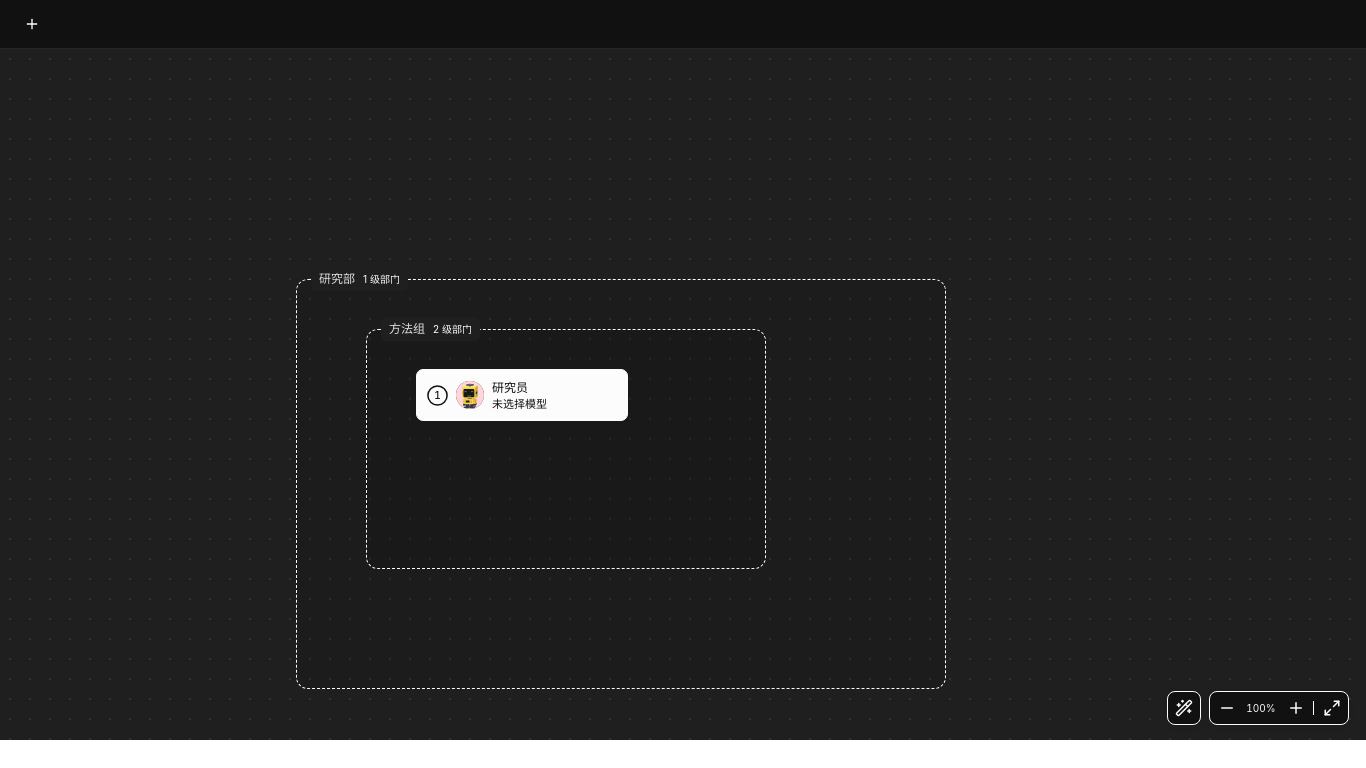
Test case: organization template personnel configuration › assigns department administration to the contained department without duplicating membership details
The width and height of the screenshot is (1366, 768).
Double-click the element named "节点 研究员" at (522, 395), box [416,369,628,421]
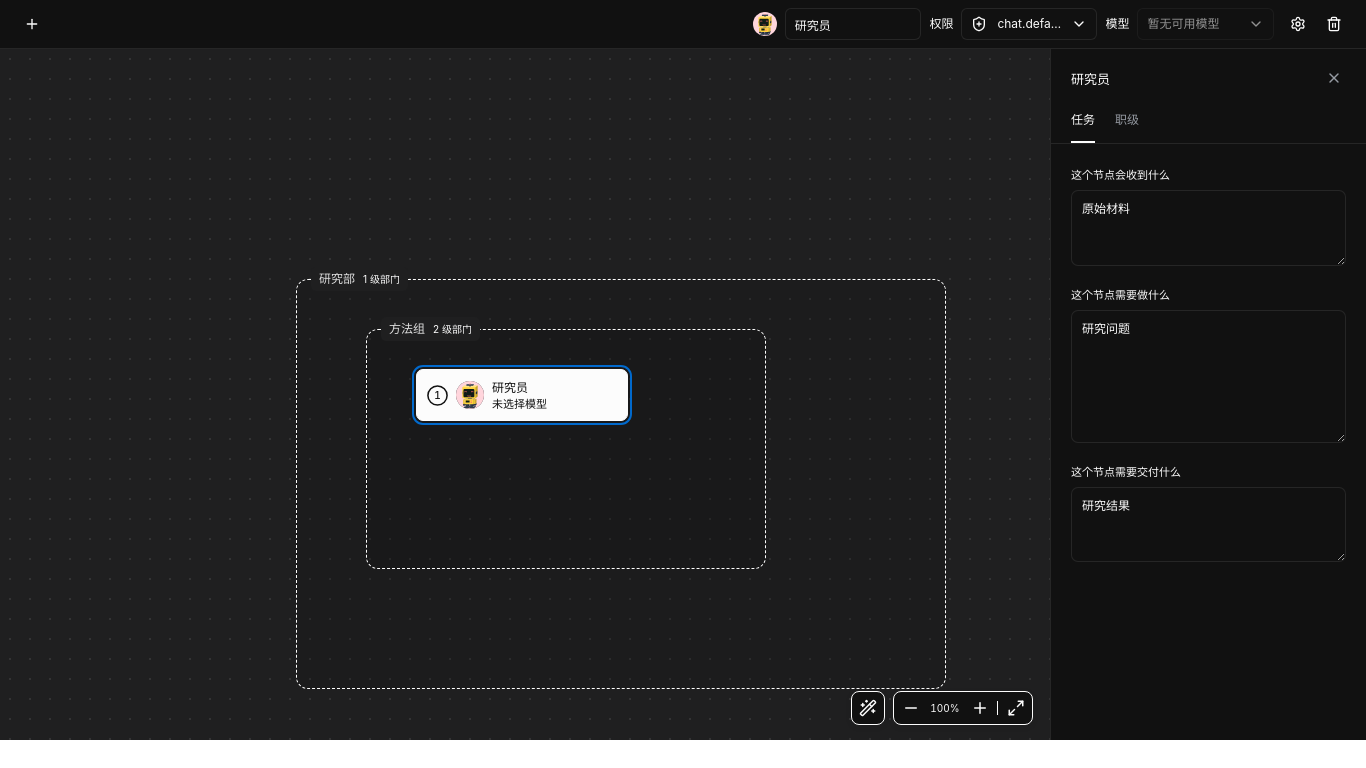
Click the tab "职级" at (1127, 124), box [1115,105,1139,143]
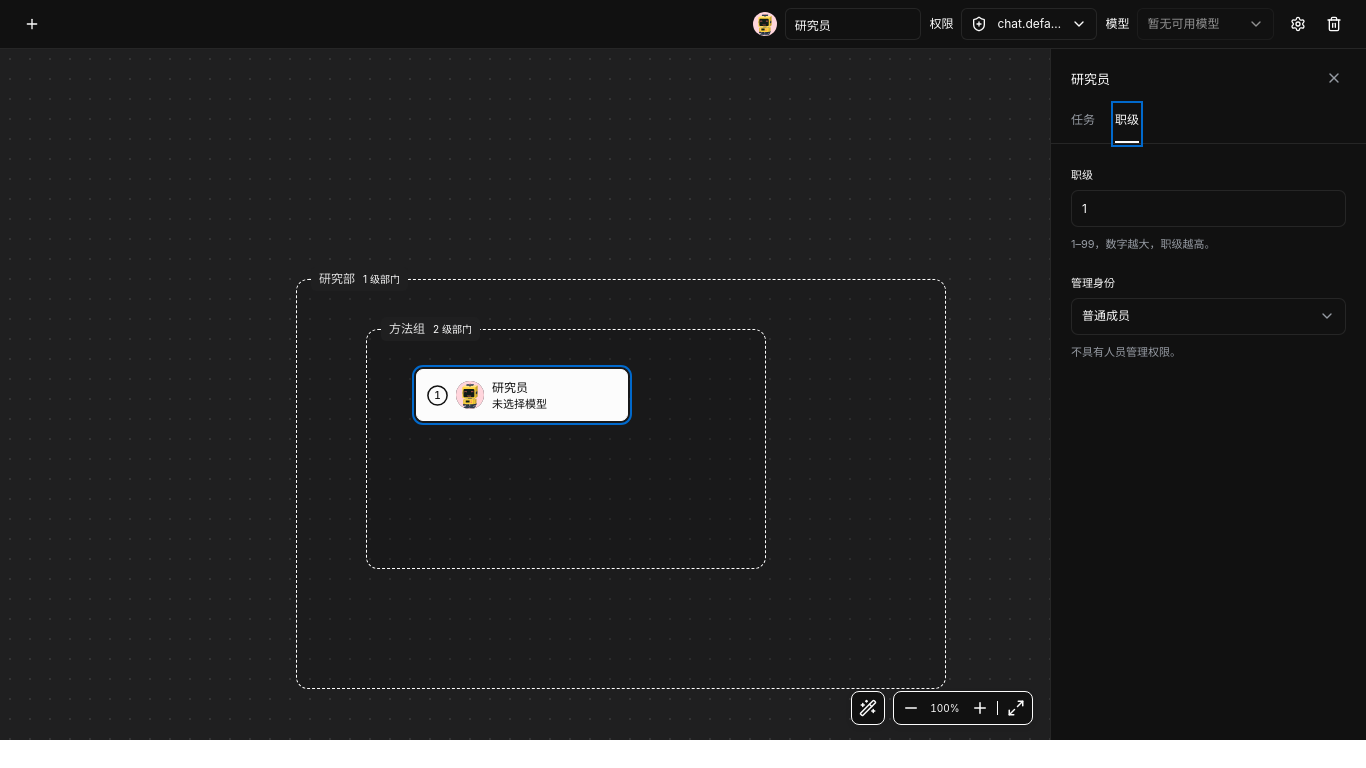
Click the button with aria-label "管理身份" at (1106, 316), box [1071,298,1346,335]
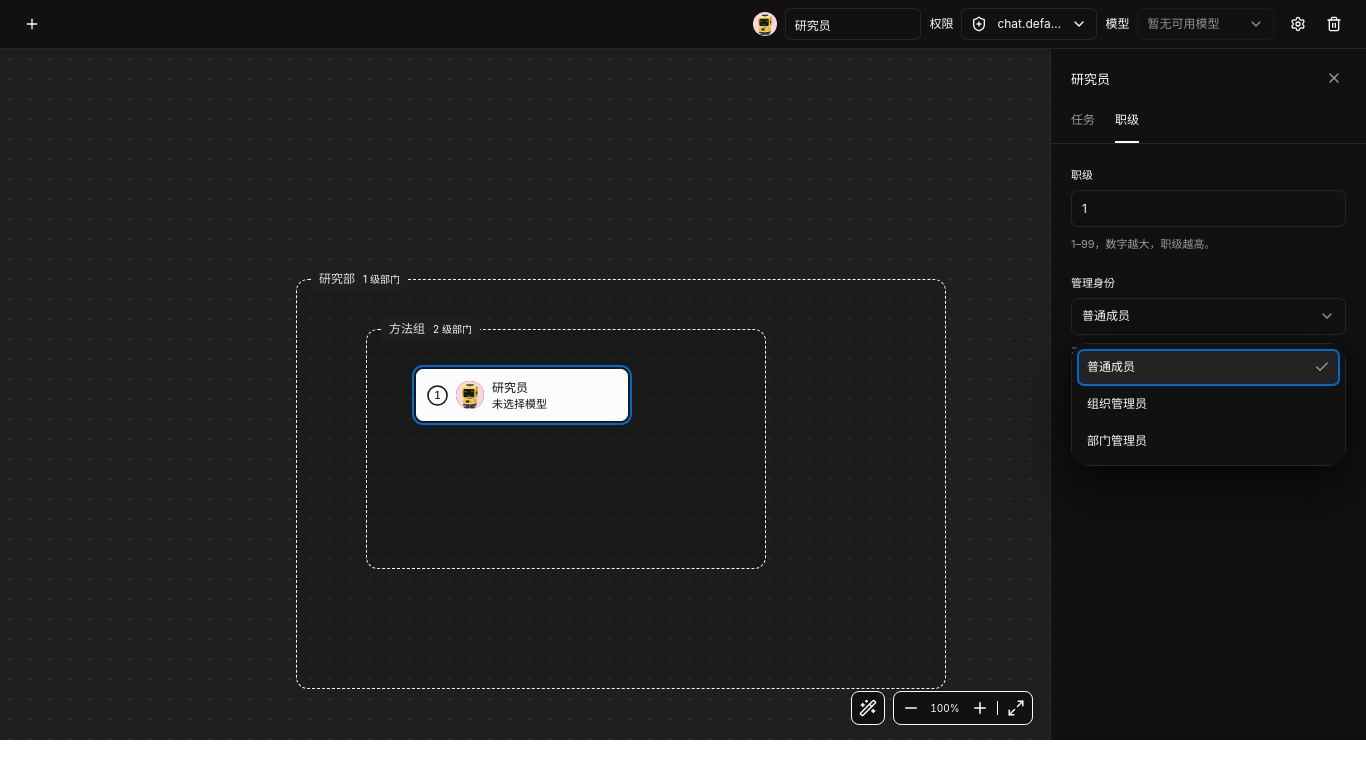
Click the option "部门管理员" at (1117, 441), box [1077,423,1340,460]
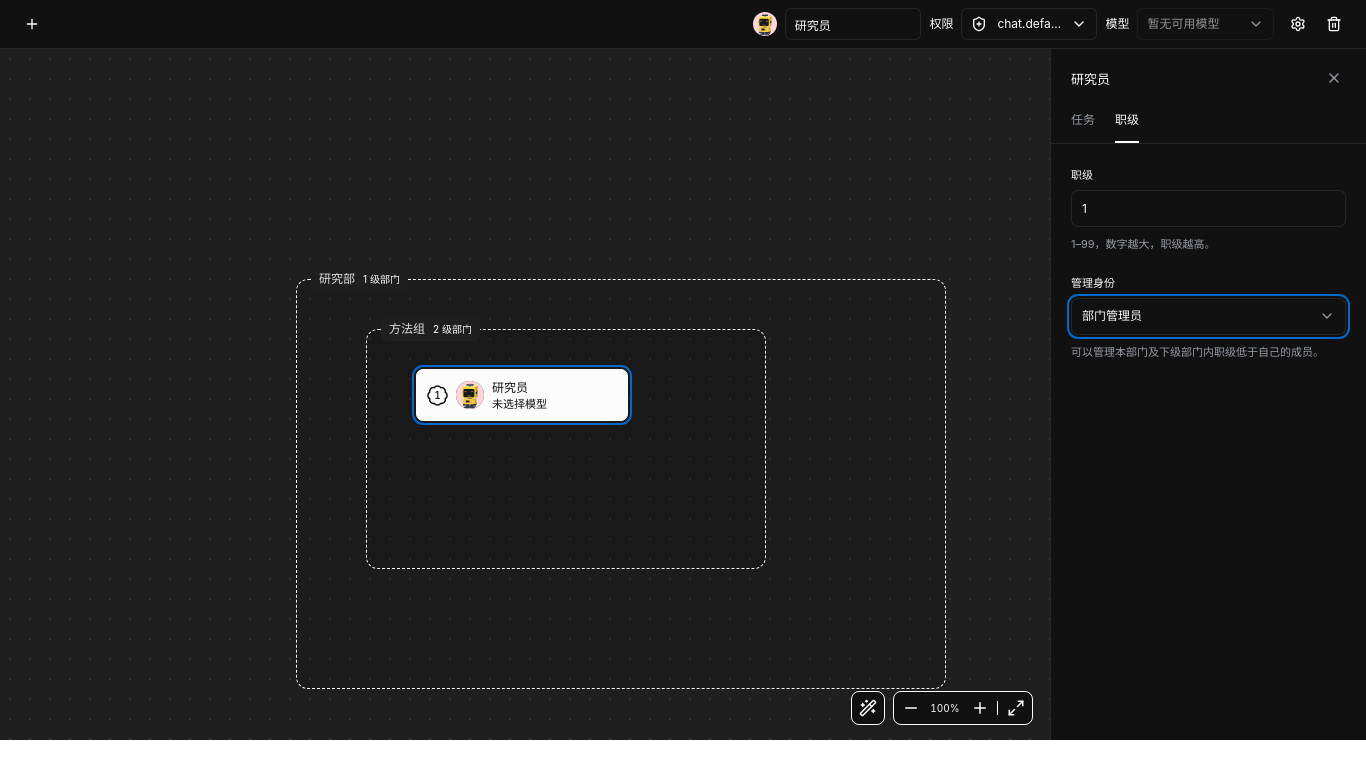
Expected: the picture with class "is-admin" reads "1", [434,389,441,401]
Result: the text "可以管理本部门及下级部门内职级低于自己的成员。" is shown at [1071,343,1346,362]
